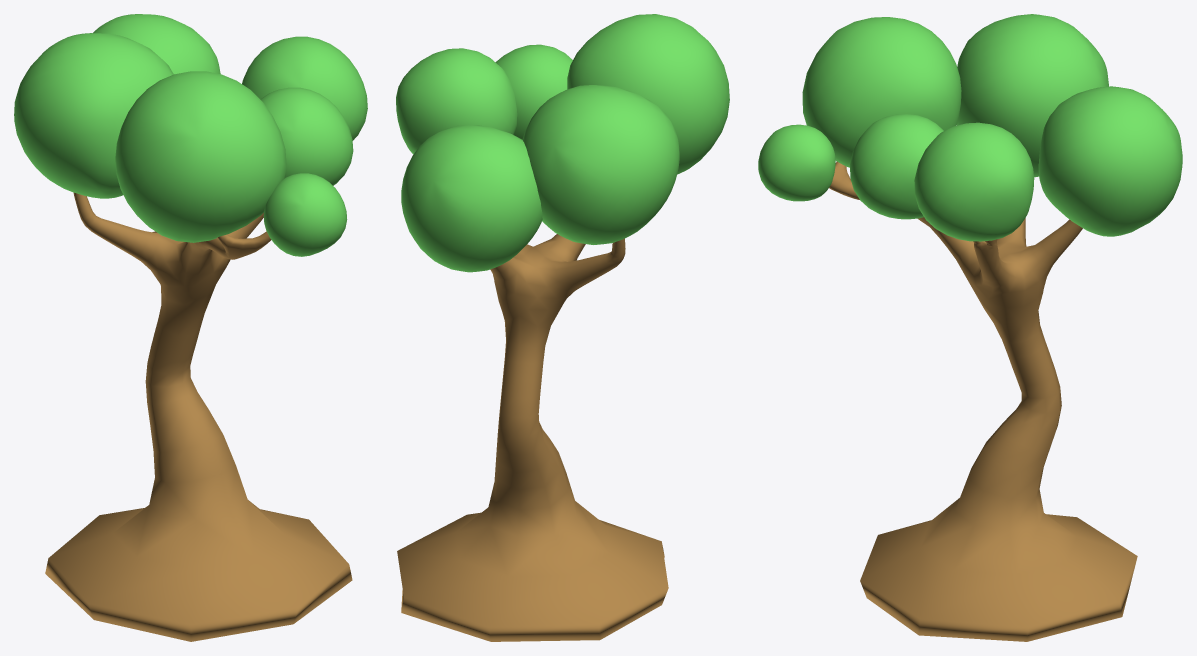
The model's file is Arvore_4a_viva_.fbx.
3 renders of one model, left to right at view 1: azimuth 30°, elevation 25°; view 2: azimuth 150°, elevation 25°; view 3: azimuth 270°, elevation 25°, orthographic. The views are drawn at different scales.
Parts seen in each view (by area): view 1: Vert, Sphere.001, Sphere.004, Sphere, Sphere.002, Sphere.003, Sphere.005; view 2: Vert, Sphere.004, Sphere.005, Sphere.001, Sphere, Sphere.002; view 3: Vert, Sphere.005, Sphere.001, Sphere.004, Sphere, Sphere.002, Sphere.003.
Boxes of the visible parts, x1,y1,x2,y2 form: Vert: (45,192,352,641); Sphere.001: (115,71,286,242); Sphere.004: (14,33,173,198); Sphere: (242,36,367,140); Sphere.002: (260,87,353,185); Sphere.003: (263,173,347,256); Sphere.005: (93,14,220,74); Vert: (397,234,668,641); Sphere.004: (522,85,679,244); Sphere.005: (401,125,542,272); Sphere.001: (567,14,729,174); Sphere: (396,48,517,154); Sphere.002: (495,44,572,139); Vert: (829,161,1137,641); Sphere.005: (1038,86,1182,236); Sphere.001: (802,17,961,167); Sphere.004: (957,14,1108,177); Sphere: (914,122,1034,241); Sphere.002: (850,114,943,219); Sphere.003: (758,124,835,201).
Bounding box in the file's own units: 1055 × 1889 × 1343.
